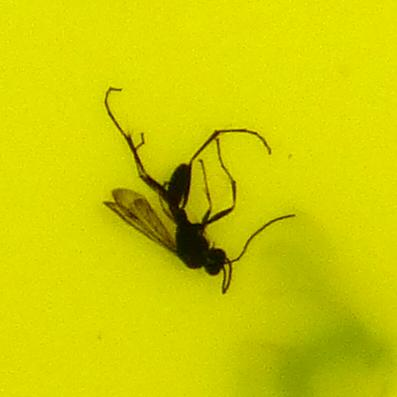Hymenoptera: (100, 100, 297, 297)
